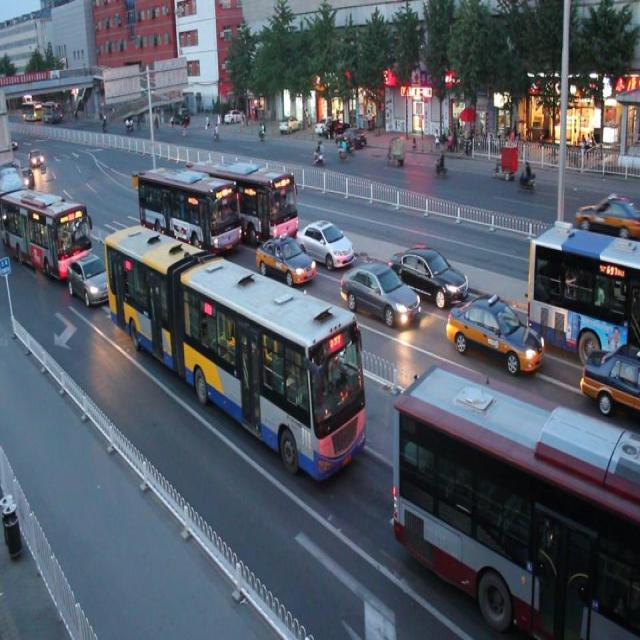car: (446, 294, 544, 382), (337, 258, 416, 331), (390, 243, 468, 309), (580, 340, 640, 410), (253, 230, 314, 289), (294, 214, 352, 273), (67, 253, 116, 306)
van: (102, 218, 366, 482), (393, 365, 640, 640), (524, 224, 640, 361), (136, 160, 240, 262), (191, 153, 298, 248), (1, 182, 90, 272)
